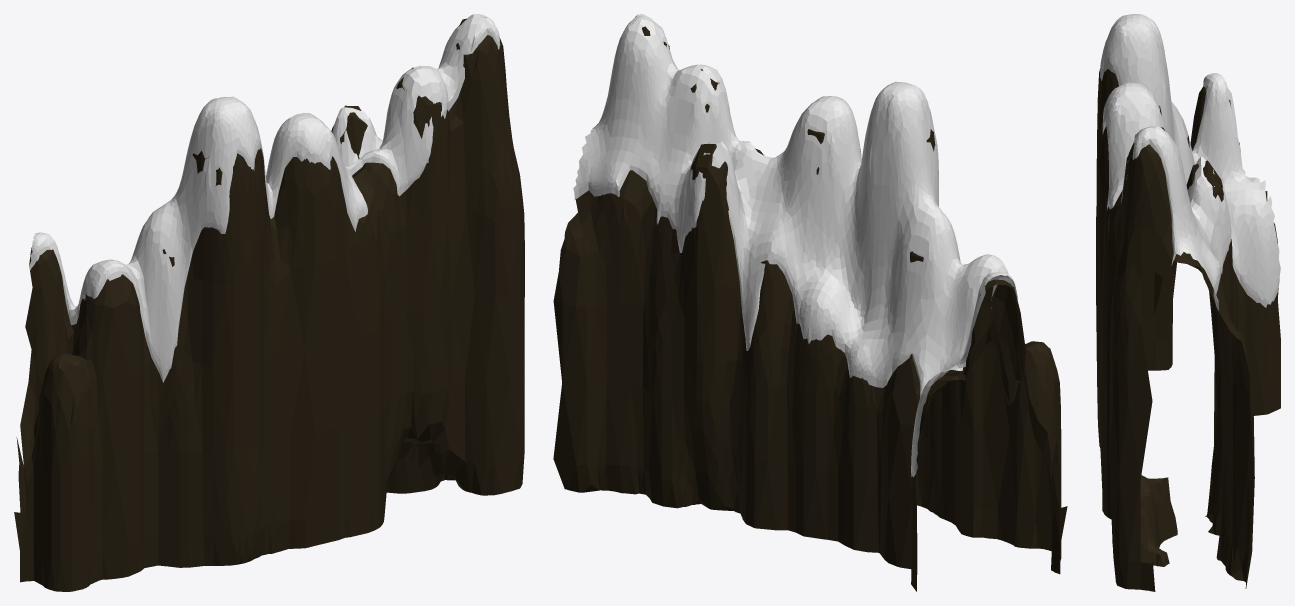
The model's file is Mtn_Wall_N0_M.fbx.
The picture shows the model from 3 angles, left to right: view 1: azimuth 30°, elevation 25°; view 2: azimuth 150°, elevation 25°; view 3: azimuth 270°, elevation 25°; orthographic projection. The views are drawn at different scales.
Visible parts, largest first — view 1: Mtn_Wall_N0_M; view 2: Mtn_Wall_N0_M; view 3: Mtn_Wall_N0_M.
Part boxes in pixels (x1,y1,x2,y2): Mtn_Wall_N0_M: [14, 14, 524, 591]; Mtn_Wall_N0_M: [553, 14, 1067, 591]; Mtn_Wall_N0_M: [1096, 14, 1280, 591].
Size of the model in its own units: 20280 by 18174 by 6798.
